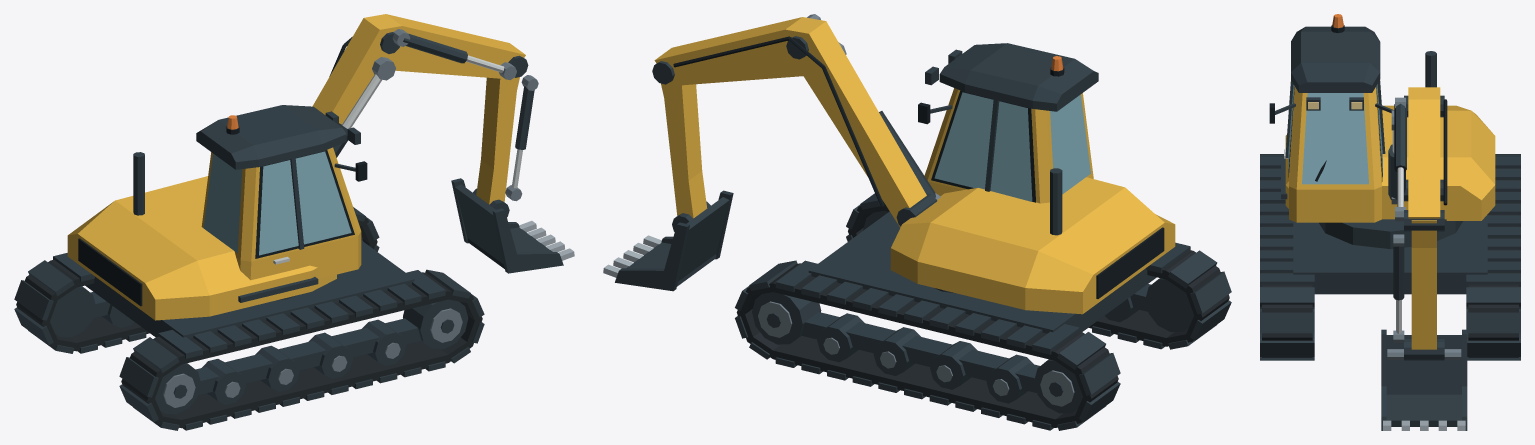
The model's file is b07_tracked_hydraulic_excavator.glb.
The picture shows the model from 3 angles, left to right: view 1: azimuth 30°, elevation 25°; view 2: azimuth 150°, elevation 25°; view 3: azimuth 270°, elevation 25°; orthographic projection. The views are drawn at different scales.
Visible parts, largest first — view 1: b07_tracked_hydraulic_excavator; view 2: b07_tracked_hydraulic_excavator; view 3: b07_tracked_hydraulic_excavator.
Part boxes in pixels (x1,y1,x2,y2): b07_tracked_hydraulic_excavator: [14, 14, 574, 430]; b07_tracked_hydraulic_excavator: [603, 14, 1231, 430]; b07_tracked_hydraulic_excavator: [1260, 14, 1520, 430].
Bounding box in the file's own units: 6.57 × 3.58 × 3.09.
